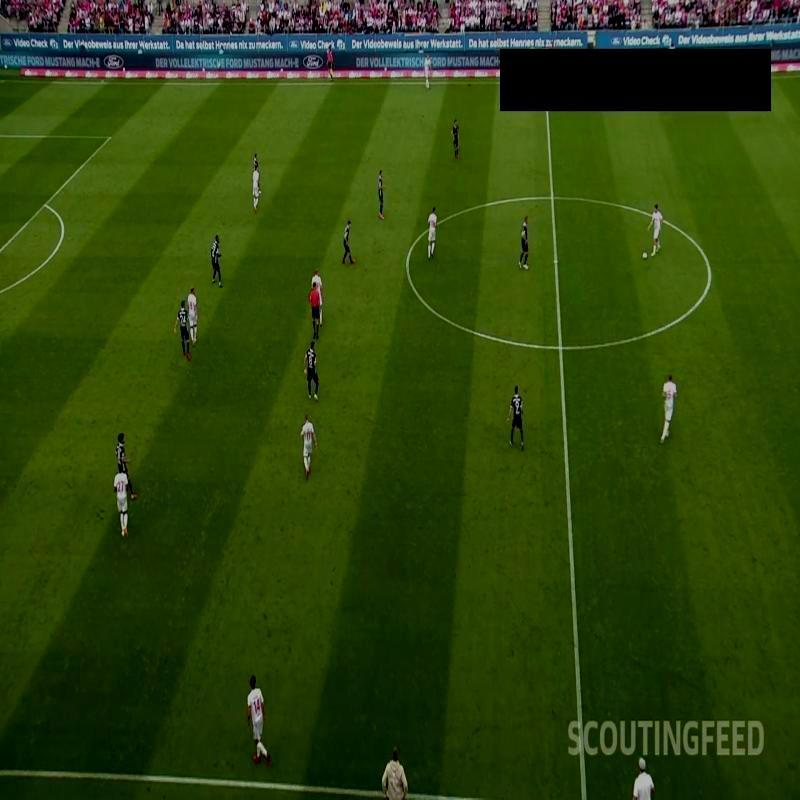10: (38, 198, 52, 212)
14: (545, 190, 561, 206)
15: (552, 340, 570, 358)
9: (103, 130, 117, 144)
c: (700, 258, 718, 279), (400, 255, 414, 269)
